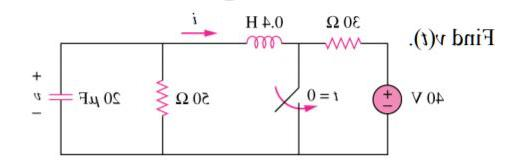inductor: (229, 28, 293, 51)
